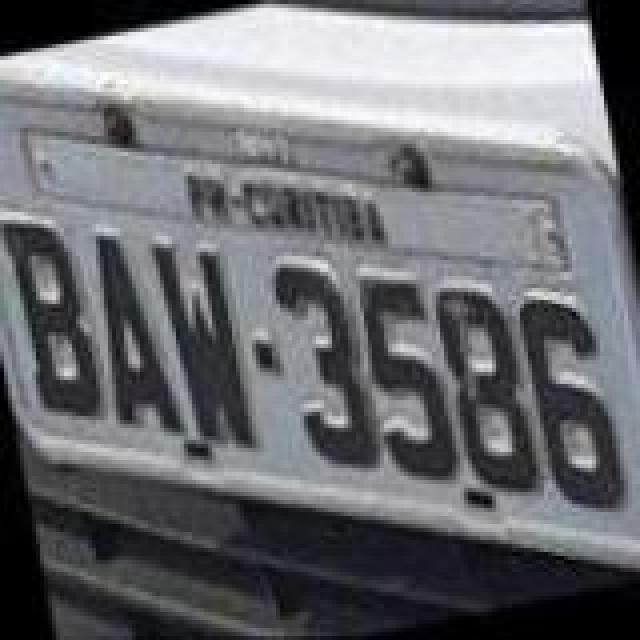3: (264, 250, 384, 482)
5: (352, 266, 468, 494)
6: (512, 284, 628, 516)
8: (432, 274, 548, 502)
A: (82, 220, 190, 444)
B: (0, 204, 104, 424)
W: (150, 228, 258, 460)
